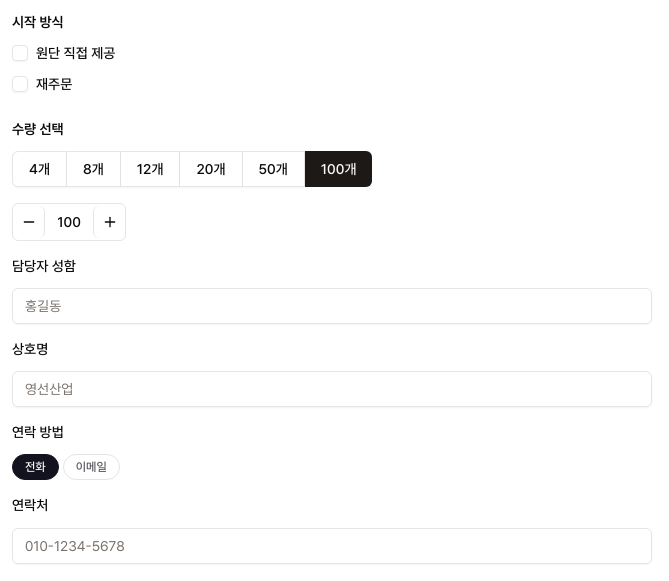
Test case: custom order steps › 연락 방법을 이메일로 선택하면 이메일 주소 라벨을 렌더링한다
Click the radio button labelled "이메일". click: (91,467)
box: [63, 454, 120, 480]
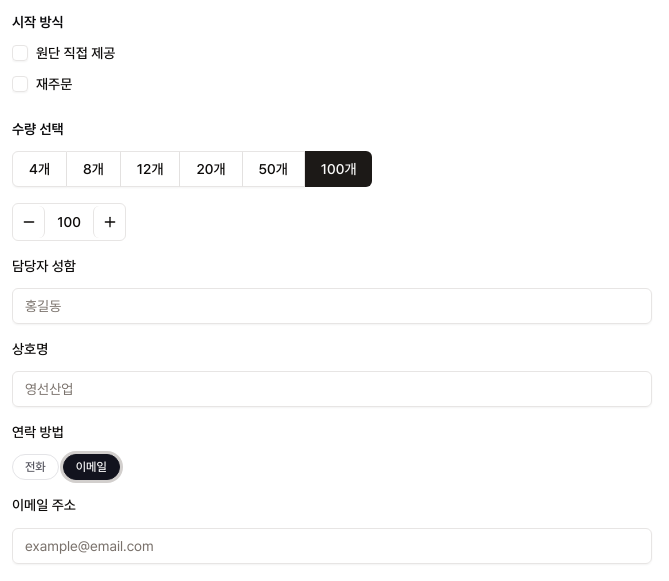
Expected: the field labelled "이메일 주소" is shown, [12, 528, 652, 564]
Expected: the text labelled "연락처" is gone
